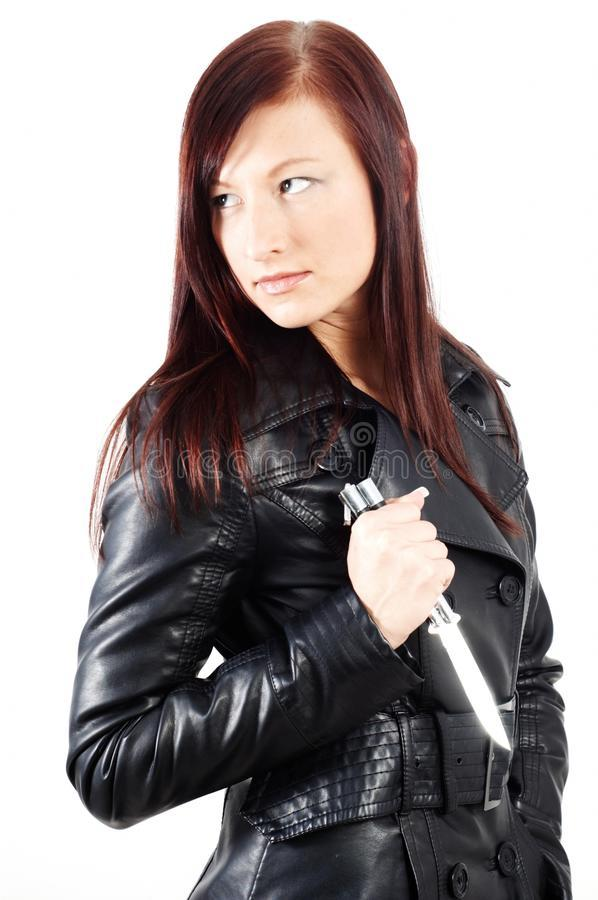criminal: (61, 16, 576, 900)
weapon: (336, 472, 523, 759)
